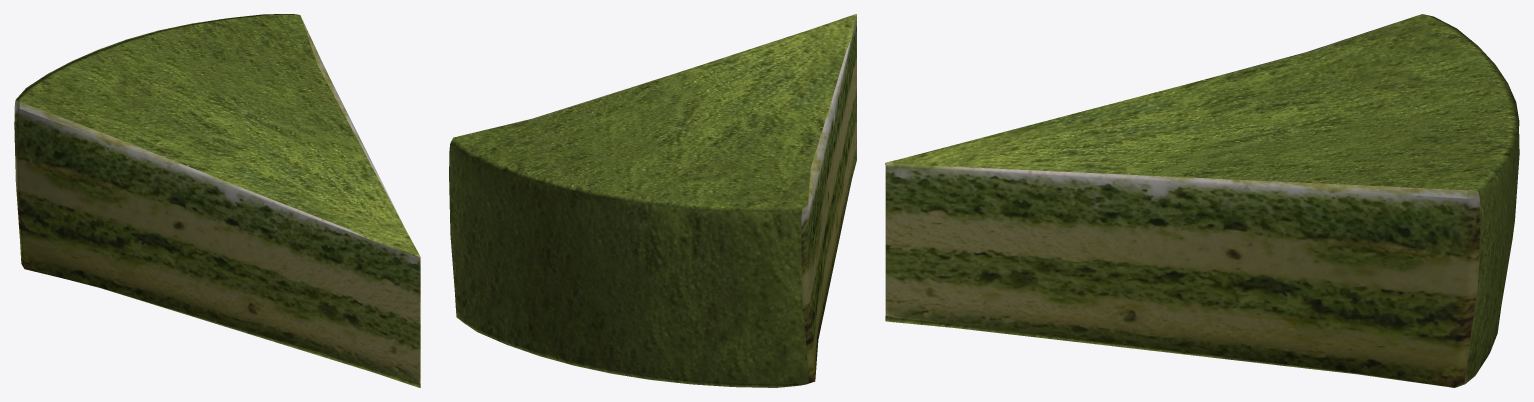
The model's file is TeaCake.fbx.
3 renders of one model, left to right at view 1: azimuth 30°, elevation 25°; view 2: azimuth 150°, elevation 25°; view 3: azimuth 270°, elevation 25°, orthographic. The views are drawn at different scales.
Parts seen in each view (by area): view 1: _polySurface1; view 2: _polySurface1; view 3: _polySurface1.
Boxes of the visible parts, x1,y1,x2,y2 form: _polySurface1: (14,14,420,387); _polySurface1: (449,14,856,387); _polySurface1: (885,14,1519,387).
Bounding box in the file's own units: 0.3083 × 0.1644 × 0.4658.
Materials: 1 (1 with a texture image).
